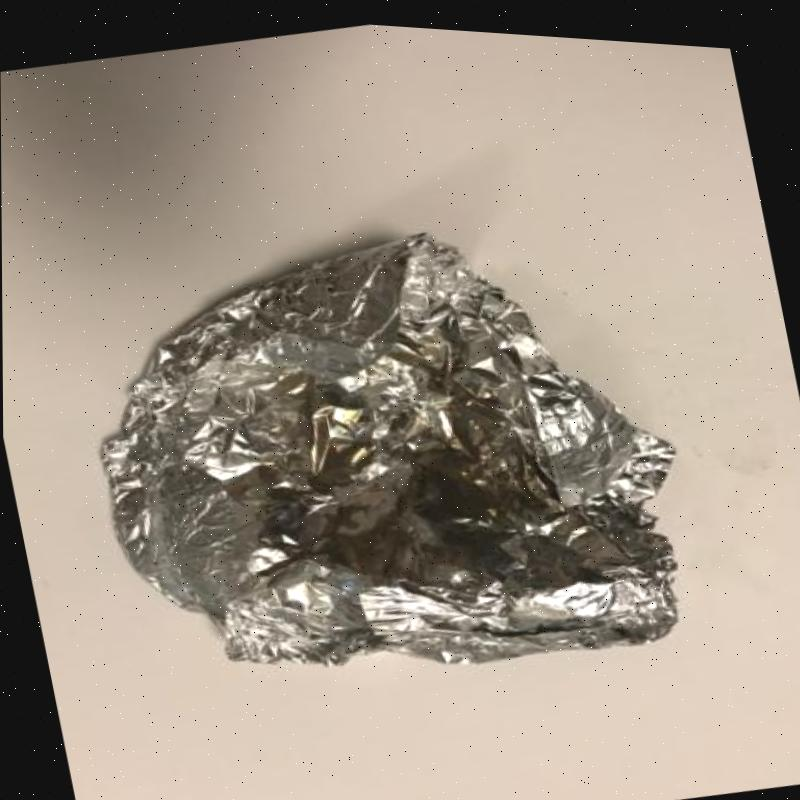aluminum: (99, 232, 681, 668)
